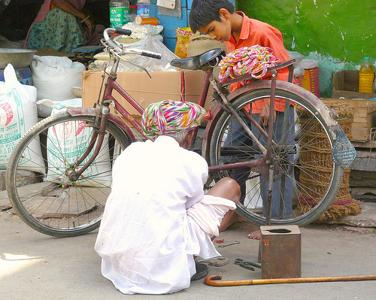person: (92, 100, 244, 294)
